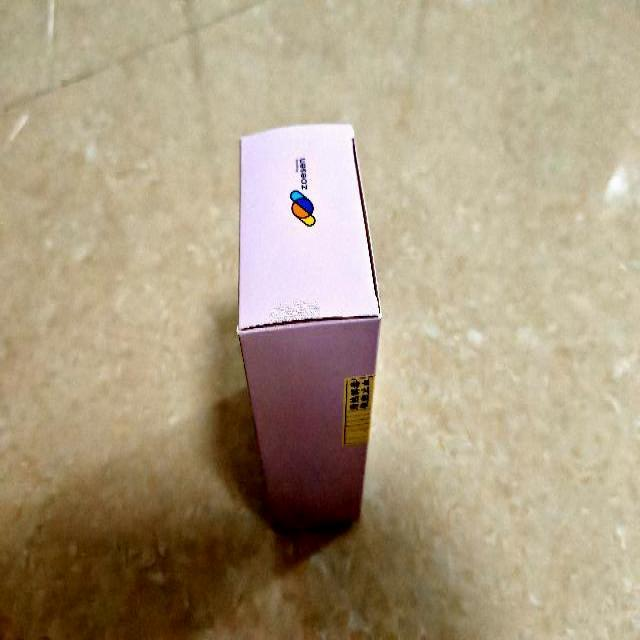box: (236, 121, 382, 532)
